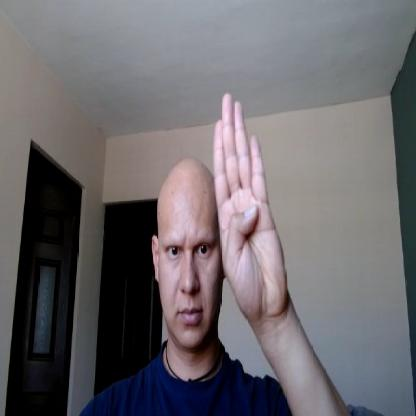B: (213, 91, 286, 313)
